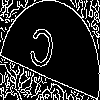C: (25, 24, 57, 80)
